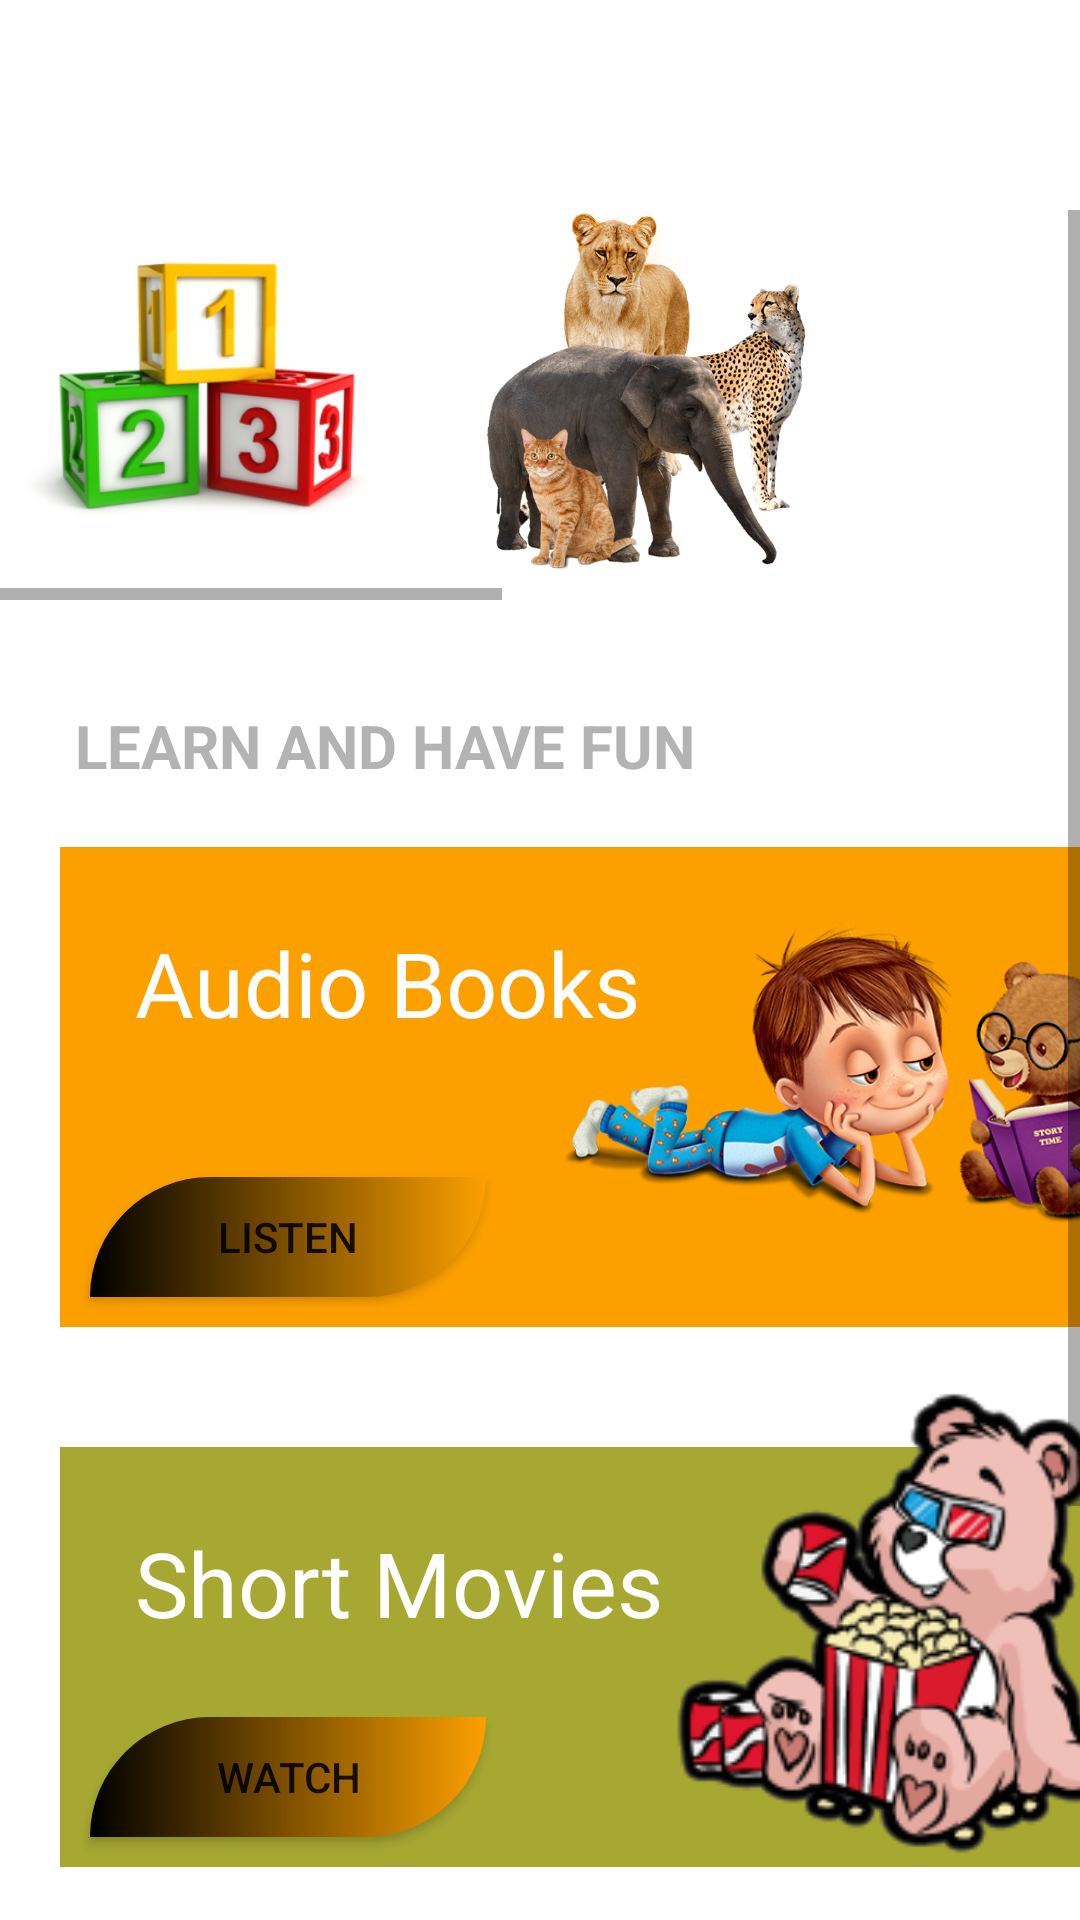

Icons on this 1080w x 1920h Android screen, each with its box as Rect(x1, y1, x2, y2):
animals: Rect(487, 213, 805, 569)
numbers: Rect(46, 263, 355, 511)
